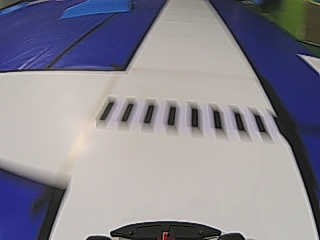CrossWalk: (95, 100, 266, 137)
